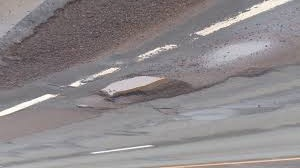pothole: (99, 74, 193, 100), (207, 62, 274, 89), (74, 104, 93, 112)
